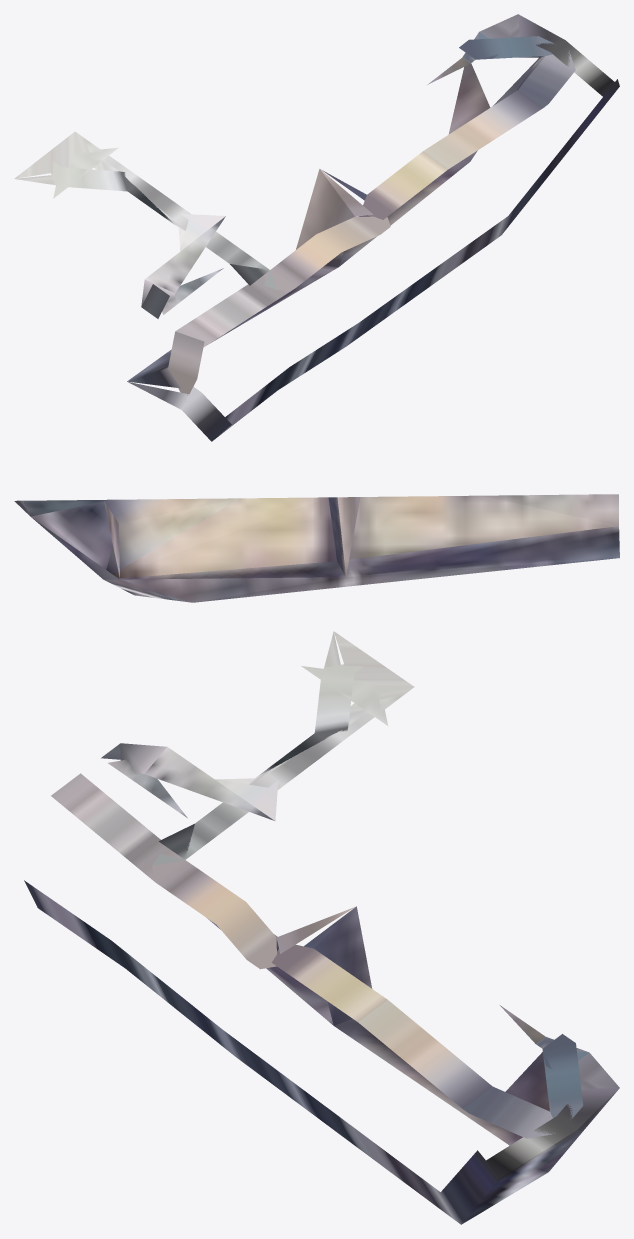
The picture shows the model from 3 angles, top to bottom: view 1: azimuth 30°, elevation 25°; view 2: azimuth 150°, elevation 25°; view 3: azimuth 270°, elevation 25°; orthographic projection. The views are drawn at different scales.
Size of the model in its own units: 22.61 by 7.26 by 14.52.
Materials: 1 (1 with a texture image).
